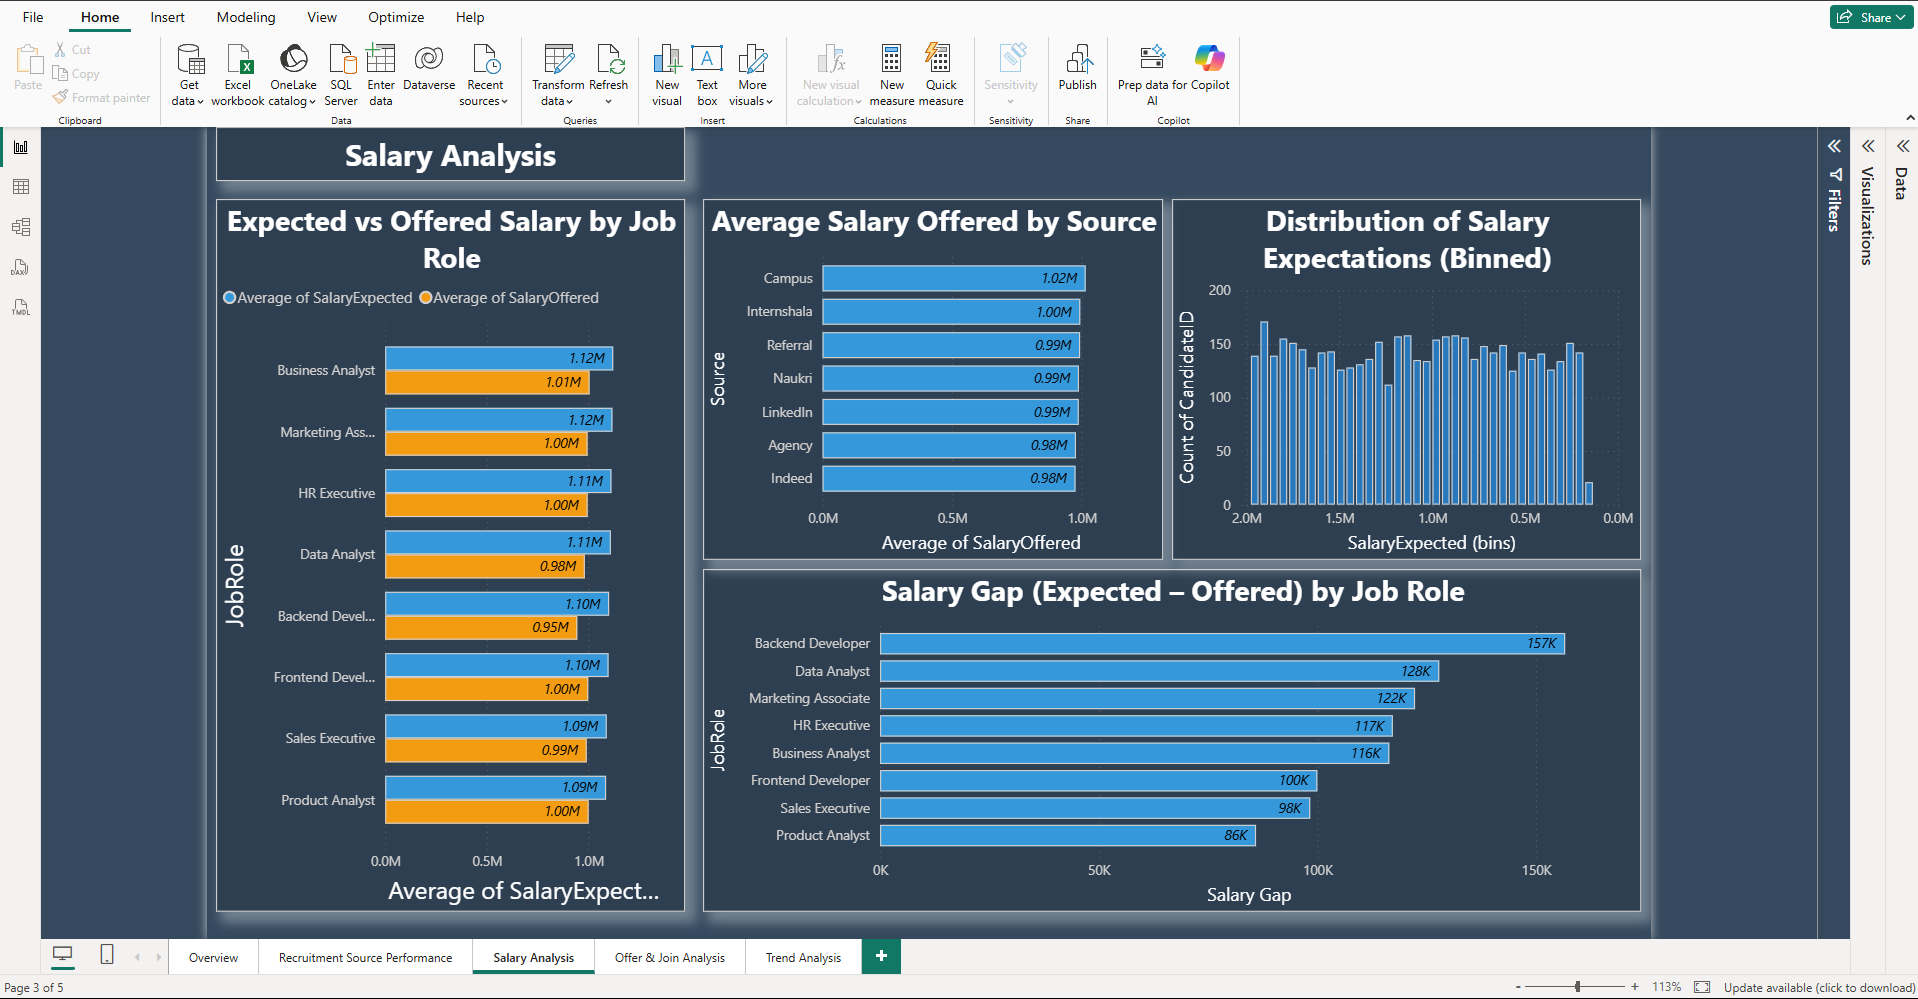

Layout of this report page (visuals, bound fields, positions):
{"tool":"powerbi","page":{"name":"Salary Analysis","canvas":[1280,720],"ordinal":2},"visuals":[{"type":"textbox","box":[8,0,416,48],"z":0},{"type":"clusteredBarChart","title":"Expected vs Offered Salary by Job Role","fields":{"Category":["talent_source_effectiveness_5000.JobRole"],"Y":["Avg(talent_source_effectiveness_5000.SalaryExpected)","Avg(talent_source_effectiveness_5000.SalaryOffered)"]},"box":[8,64,416,632],"z":1000},{"type":"barChart","title":"Salary Gap (Expected – Offered) by Job Role","fields":{"Category":["talent_source_effectiveness_5000.JobRole"],"Y":["talent_source_effectiveness_5000.Salary Gap"]},"box":[440,392,832,304],"z":2000},{"type":"barChart","title":"Average Salary Offered by Source","fields":{"Category":["talent_source_effectiveness_5000.Source"],"Y":["Avg(talent_source_effectiveness_5000.SalaryOffered)"]},"box":[440,64,408,320],"z":3000},{"type":"clusteredColumnChart","title":"Distribution of Salary Expectations (Binned)","fields":{"Category":["talent_source_effectiveness_5000.SalaryExpected (bins)"],"Y":["CountNonNull(talent_source_effectiveness_5000.CandidateID)"]},"box":[856,64,416,320],"z":4000}]}

Visuals, with their boxes on the page's 1280x720 design canvas (x1, y1, x2, y2). These are canvas units, not pixel positions in the 1918x999 screenshot, which may show the page scaled, cropped or inside an application window:
textbox: 8,0,424,48
"Expected vs Offered Salary by Job Role" clusteredBarChart: 8,64,424,696
"Salary Gap (Expected – Offered) by Job Role" barChart: 440,392,1272,696
"Average Salary Offered by Source" barChart: 440,64,848,384
"Distribution of Salary Expectations (Binned)" clusteredColumnChart: 856,64,1272,384
